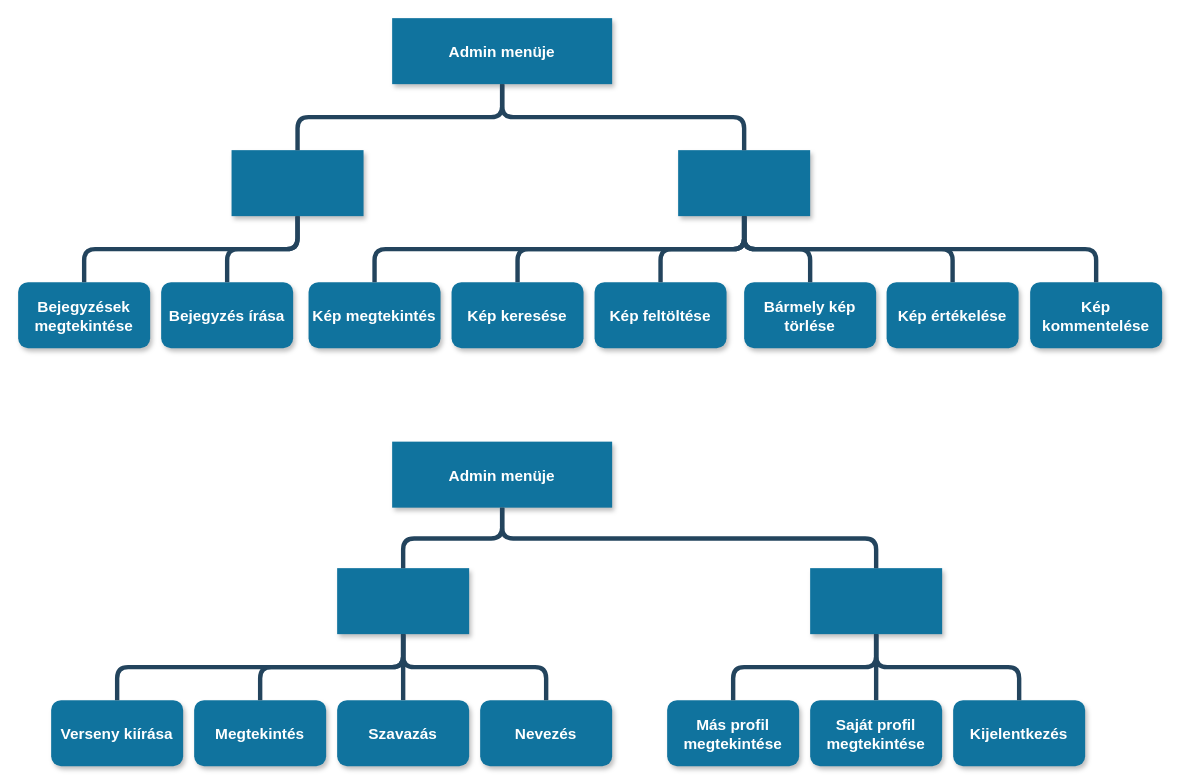
The diagram is 1180 pixels wide and 784 high, and some of its shapes have lost their labels. The shapes that lost their labels are listed below. From the top down, each one's centre as x and y in pixels, then its label:
[298,184]: Főoldal
[744,184]: Képek
[403,602]: Versenyek
[876,602]: Profil
